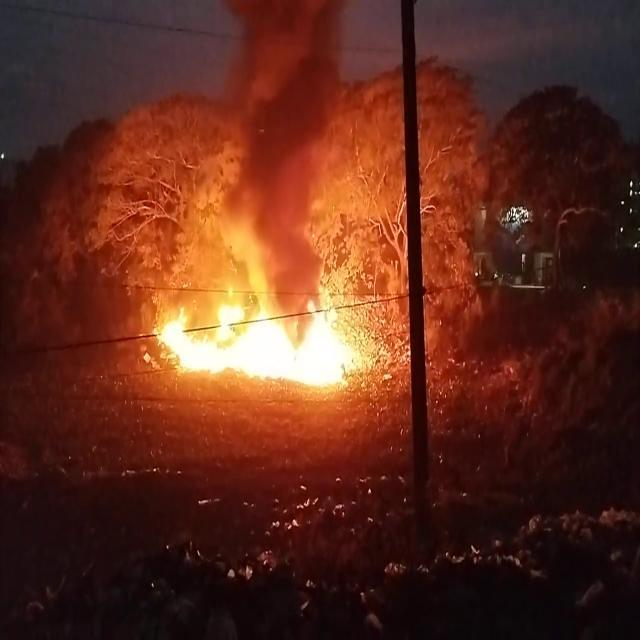Fire: (140, 253, 390, 399)
Smoke: (201, 0, 384, 260)
